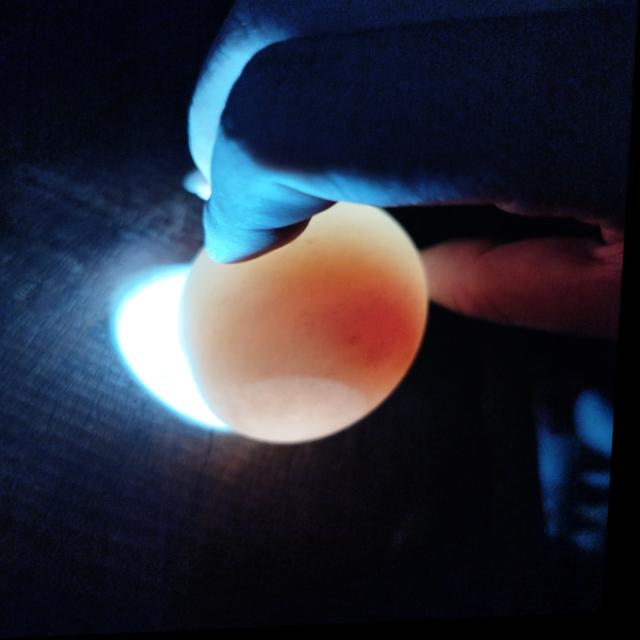Camara de Ar: (220, 380, 375, 443)
